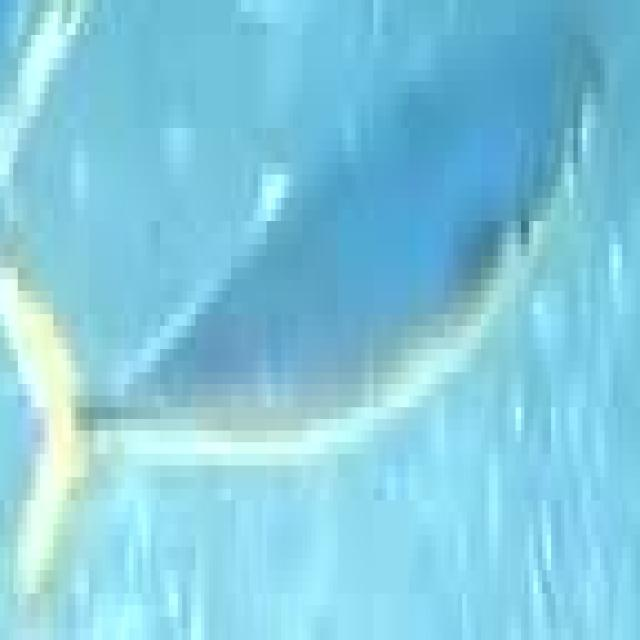fish: (4, 0, 639, 629)
